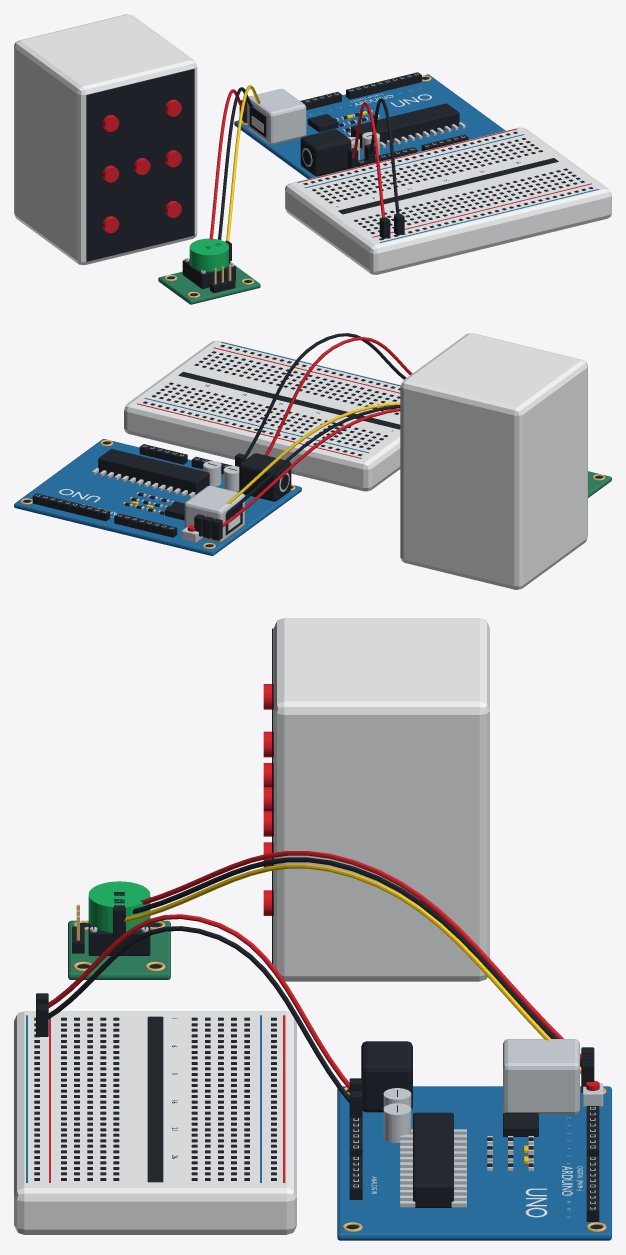
The model's file is electronic-dice.glb.
3 views of the same model, one above another, from view 1: azimuth 30°, elevation 25°; view 2: azimuth 150°, elevation 25°; view 3: azimuth 270°, elevation 25° (orthographic). The views are drawn at different scales.
Visible parts, largest first — view 1: breadboard.025 • white, Project structure • white, Project structure • black, microcontroller.025 • black, microcontroller.025 • blue, breadboard.025 • black, microcontroller.025 • silver, Jumper connections • black, Project structure • red, push-button.014 • greenPCB, Jumper connections • red, push-button.014 • green (+5 smaller); view 2: Project structure • white, breadboard.025 • white, microcontroller.025 • blue, microcontroller.025 • black, breadboard.025 • black, microcontroller.025 • silver, Jumper connections • black, Jumper connections • red, Jumper connections • yellow, breadboard.025 • red, breadboard.025 • blue; view 3: Project structure • white, breadboard.025 • white, microcontroller.025 • blue, microcontroller.025 • black, breadboard.025 • black, microcontroller.025 • silver, Jumper connections • black, Jumper connections • red, Jumper connections • yellow, push-button.014 • greenPCB, push-button.014 • green, push-button.014 • black (+2 smaller).
Boxes of the visible parts, left/top/right/bottom form: breadboard.025 • white: left=285, top=127, right=611, bottom=274; Project structure • white: left=14, top=14, right=197, bottom=265; Project structure • black: left=86, top=69, right=194, bottom=261; microcontroller.025 • black: left=243, top=72, right=468, bottom=176; microcontroller.025 • blue: left=234, top=74, right=505, bottom=178; breadboard.025 • black: left=303, top=131, right=593, bottom=240; microcontroller.025 • silver: left=247, top=73, right=465, bottom=166; Jumper connections • black: left=205, top=87, right=404, bottom=261; Project structure • red: left=102, top=99, right=181, bottom=233; push-button.014 • greenPCB: left=158, top=262, right=260, bottom=304; Jumper connections • red: left=209, top=89, right=384, bottom=239; push-button.014 • green: left=189, top=238, right=228, bottom=271; Project structure • white: left=400, top=333, right=587, bottom=589; breadboard.025 • white: left=124, top=340, right=400, bottom=491; microcontroller.025 • blue: left=14, top=439, right=301, bottom=555; microcontroller.025 • black: left=23, top=441, right=292, bottom=547; breadboard.025 • black: left=143, top=345, right=400, bottom=456; microcontroller.025 • silver: left=36, top=445, right=289, bottom=542; Jumper connections • black: left=194, top=333, right=406, bottom=540; Jumper connections • red: left=222, top=337, right=412, bottom=527; Jumper connections • yellow: left=226, top=402, right=400, bottom=504; breadboard.025 • red: left=137, top=347, right=400, bottom=458; breadboard.025 • blue: left=144, top=342, right=400, bottom=453; Project structure • white: left=274, top=618, right=489, bottom=981; breadboard.025 • white: left=14, top=1011, right=296, bottom=1234; microcontroller.025 • blue: left=337, top=1086, right=611, bottom=1240; microcontroller.025 • black: left=346, top=1041, right=602, bottom=1229; breadboard.025 • black: left=34, top=1016, right=276, bottom=1182; microcontroller.025 • silver: left=353, top=1039, right=603, bottom=1209; Jumper connections • black: left=36, top=857, right=594, bottom=1117; Jumper connections • red: left=48, top=851, right=581, bottom=1089; Jumper connections • yellow: left=124, top=864, right=581, bottom=1073; push-button.014 • greenPCB: left=68, top=920, right=170, bottom=979; push-button.014 • green: left=88, top=881, right=150, bottom=932; push-button.014 • black: left=72, top=922, right=161, bottom=968.
Size of the model in its own units: 160 by 60 by 116.
